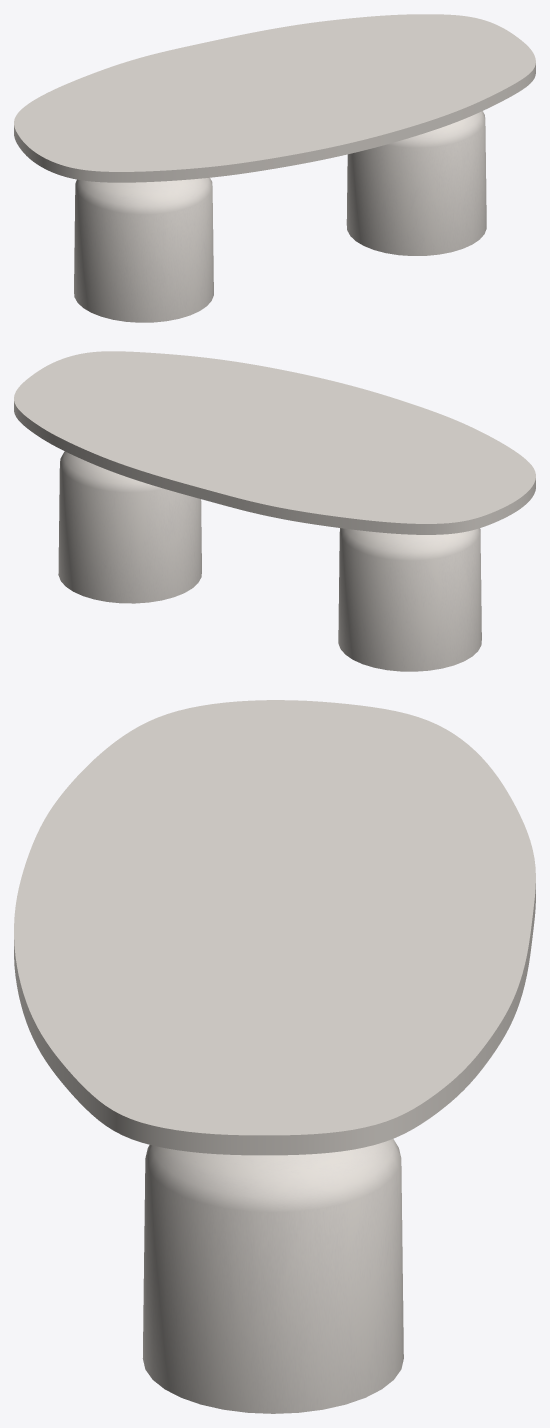
Rendered from pearlwhite_danish_standard_tornado.glb.
3 views of the same model, one above another, from view 1: azimuth 30°, elevation 25°; view 2: azimuth 150°, elevation 25°; view 3: azimuth 270°, elevation 25° (orthographic). The views are drawn at different scales.
Visible parts, largest first — view 1: standard_danish, tornado; view 2: standard_danish, tornado; view 3: standard_danish, tornado.
Part boxes in pixels (x1,y1,x2,y2): standard_danish: (14,14,535,182); tornado: (74,111,486,322); standard_danish: (14,351,535,534); tornado: (58,451,481,671); standard_danish: (14,700,535,1155); tornado: (142,1139,403,1413).
Bounding box in the file's own units: 7.5 × 2.51 × 3.8.
1 material, 1 textured.
